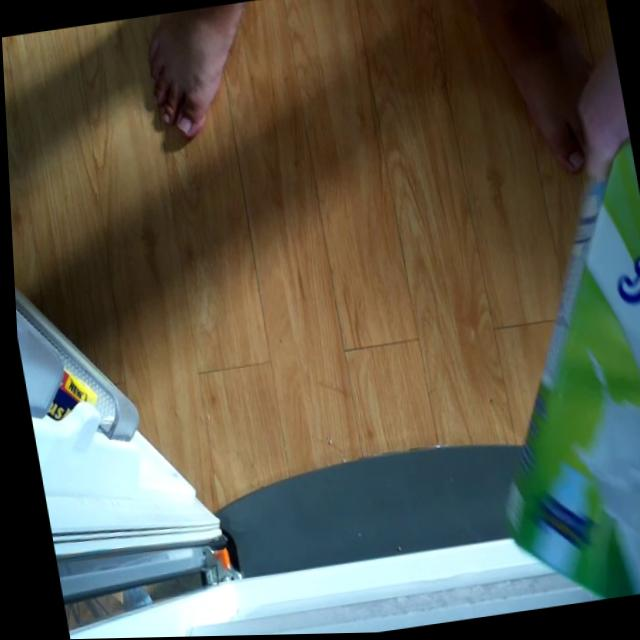milk: (429, 75, 640, 615)
